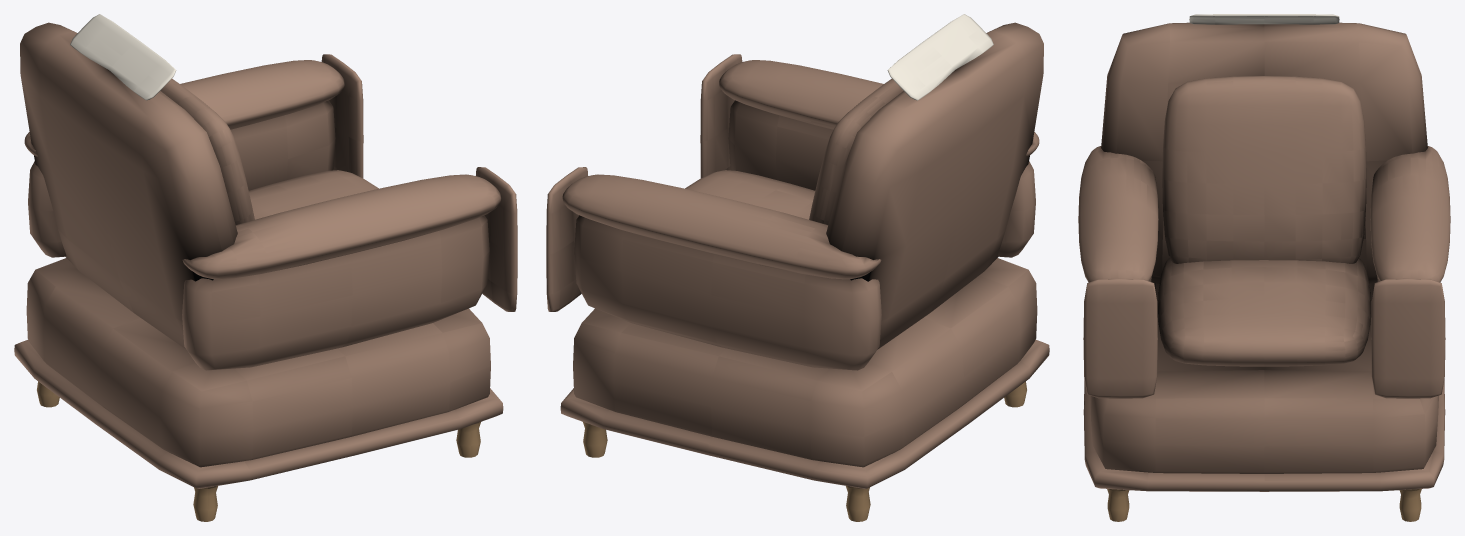
Rendered from seat_armchair.glb.
3 renders of one model, left to right at view 1: azimuth 30°, elevation 25°; view 2: azimuth 150°, elevation 25°; view 3: azimuth 270°, elevation 25°, orthographic. The views are drawn at different scales.
Parts seen in each view (by area): view 1: PART; view 2: PART; view 3: PART.
Boxes of the visible parts, x1=… form: PART: x1=14, y1=14, x2=517, y2=521; PART: x1=546, y1=14, x2=1049, y2=521; PART: x1=1078, y1=14, x2=1450, y2=521.
Size of the model in its own units: 0.8181 by 0.9707 by 0.8411.
